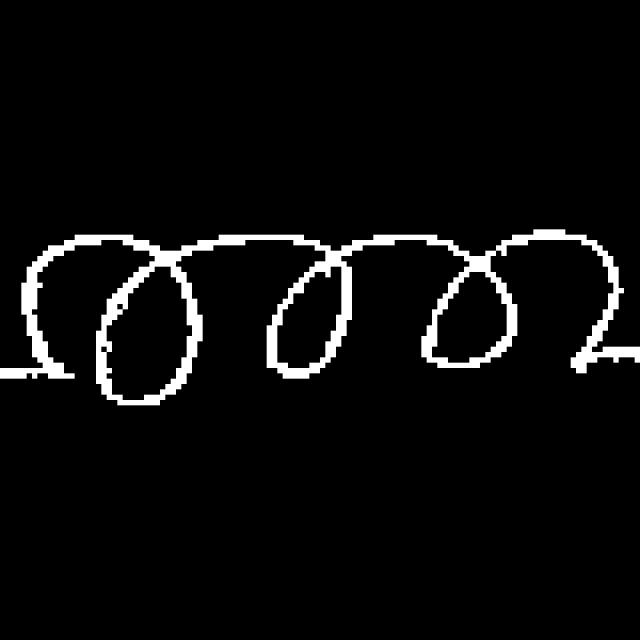inductor: (13, 186, 636, 420)
